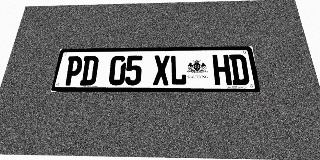0: (108, 56, 126, 85)
5: (125, 55, 142, 85)
D: (229, 54, 250, 85), (79, 56, 99, 85)
H: (212, 54, 232, 85)
L: (170, 55, 187, 85)
P: (63, 56, 84, 85)
X: (153, 55, 170, 85)
